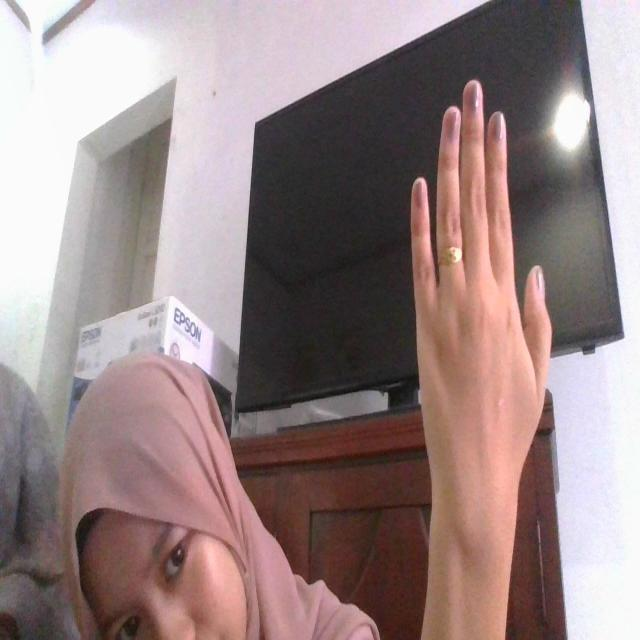hand: (389, 59, 565, 608)
